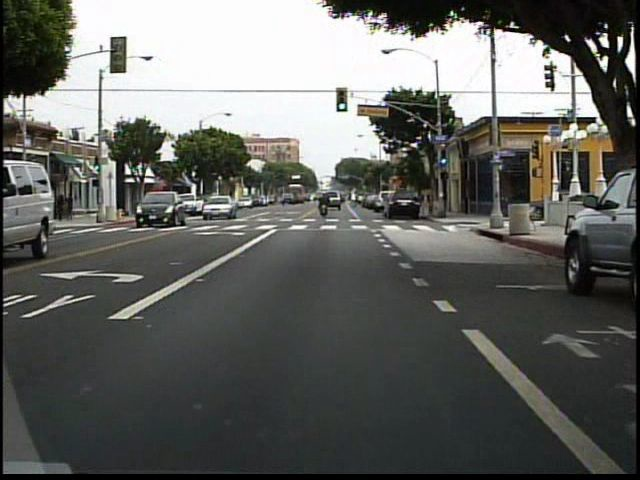person: (55, 192, 68, 222), (318, 189, 331, 219), (67, 191, 79, 222)
